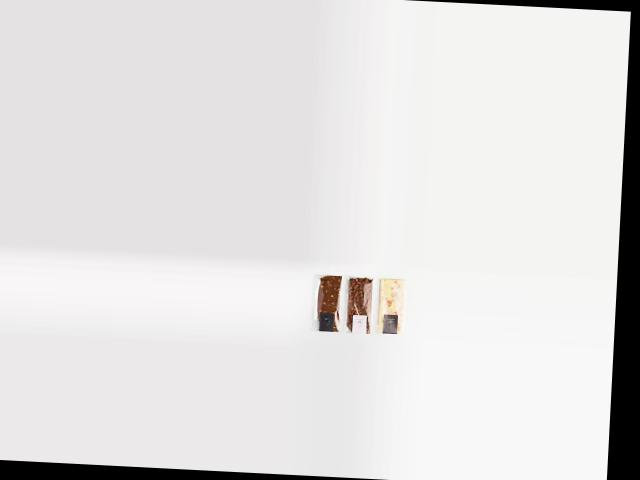chocolate: (311, 272, 340, 331)
